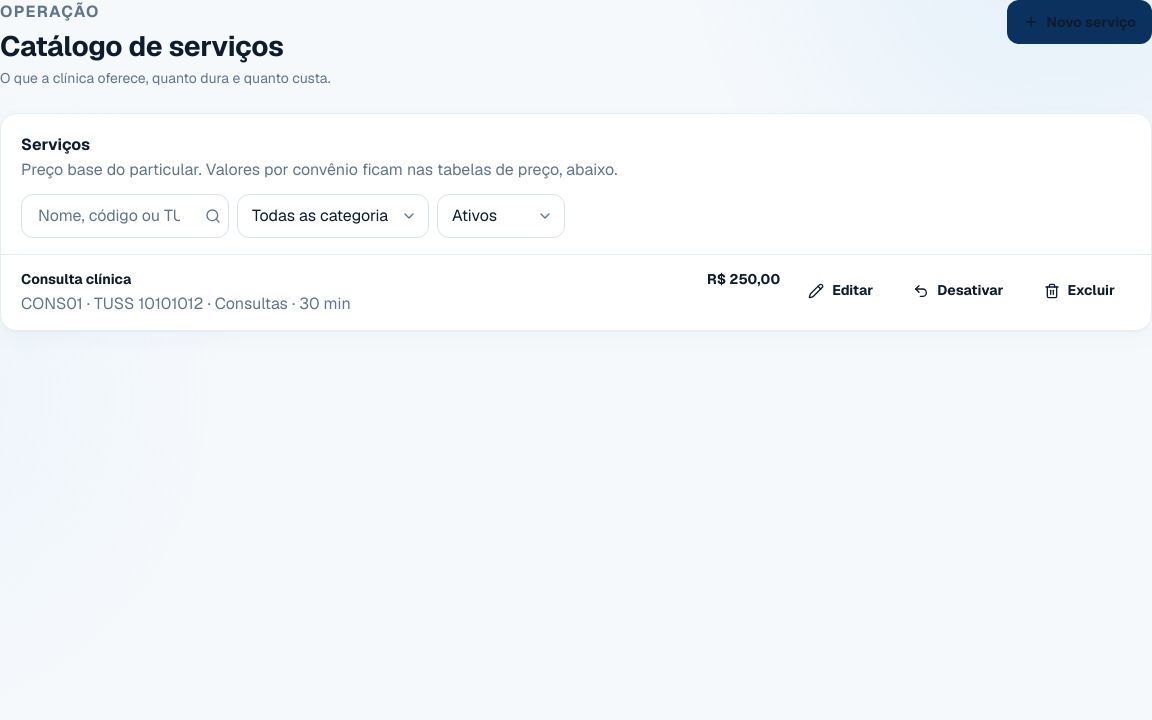
Test case: cadastro › código duplicado aparece dentro do modal
This screenshot has width=1152, height=720.
Click the button "Editar".
click(841, 291)  # box top-left (792, 269), bottom-right (889, 313)
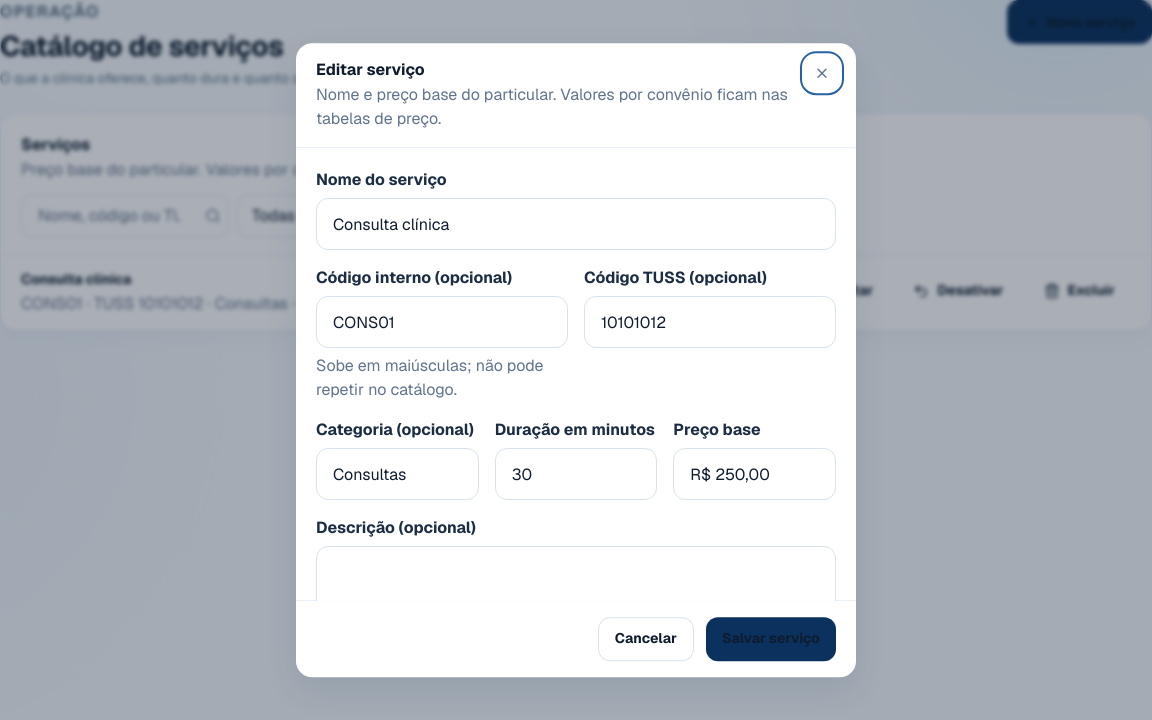
Click the button "Salvar serviço".
click(771, 639)  # box top-left (706, 617), bottom-right (836, 661)
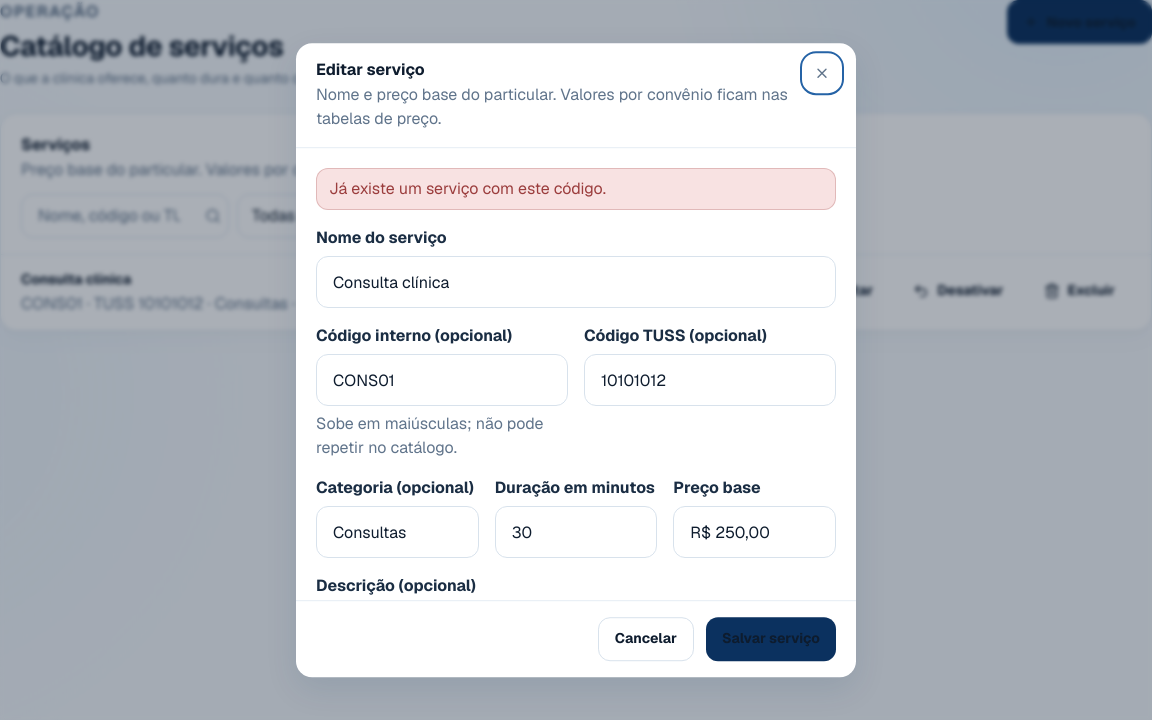
expect the message shows "Já existe um serviço": met, box top-left (329, 179), bottom-right (606, 200)
